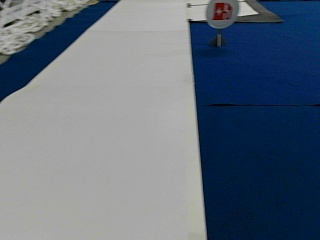battery: (205, 0, 239, 29)
